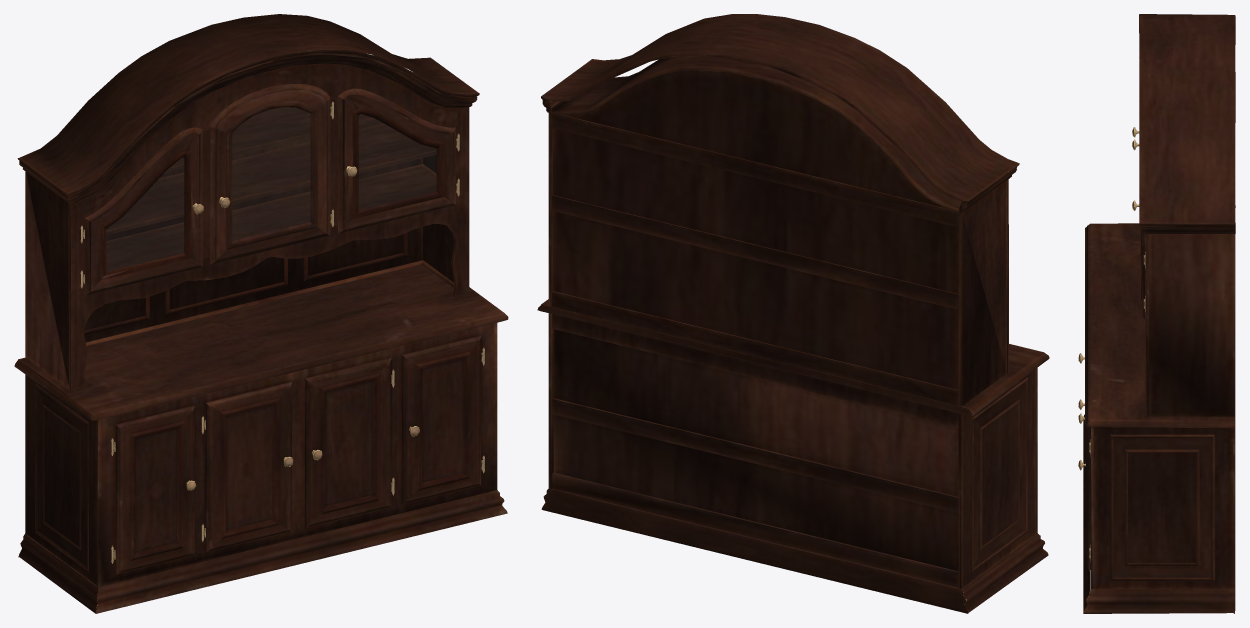
File: vintage_cabinet_01.glb
3 views of the same model, side by side, from view 1: azimuth 30°, elevation 25°; view 2: azimuth 150°, elevation 25°; view 3: azimuth 270°, elevation 25° (orthographic). The views are drawn at different scales.
Parts seen in each view (by area): view 1: vintage_cabinet_01_body, vintage_cabinet_01_door_03, vintage_cabinet_01_door_01, vintage_cabinet_01_door_04, vintage_cabinet_01_door_06, vintage_cabinet_01_door_07, vintage_cabinet_01_door_02, vintage_cabinet_01_door_05; view 2: vintage_cabinet_01_body; view 3: vintage_cabinet_01_body, vintage_cabinet_01_door_02, vintage_cabinet_01_door_04.
Boxes of the visible parts, left/top/right/bottom form: vintage_cabinet_01_body: left=14, top=14, right=508, bottom=613; vintage_cabinet_01_door_03: left=210, top=83, right=332, bottom=264; vintage_cabinet_01_door_01: left=83, top=127, right=203, bottom=295; vintage_cabinet_01_door_04: left=338, top=88, right=457, bottom=233; vintage_cabinet_01_door_06: left=204, top=381, right=293, bottom=552; vintage_cabinet_01_door_07: left=305, top=357, right=392, bottom=528; vintage_cabinet_01_door_02: left=402, top=335, right=483, bottom=504; vintage_cabinet_01_door_05: left=114, top=405, right=196, bottom=574; vintage_cabinet_01_body: left=537, top=14, right=1049, bottom=613; vintage_cabinet_01_body: left=1083, top=14, right=1235, bottom=613; vintage_cabinet_01_door_02: left=1078, top=426, right=1090, bottom=571; vintage_cabinet_01_door_04: left=1132, top=200, right=1145, bottom=319.
Size of the model in its own units: 2.02 by 2.24 by 0.6706.
3 materials, 2 textured.
